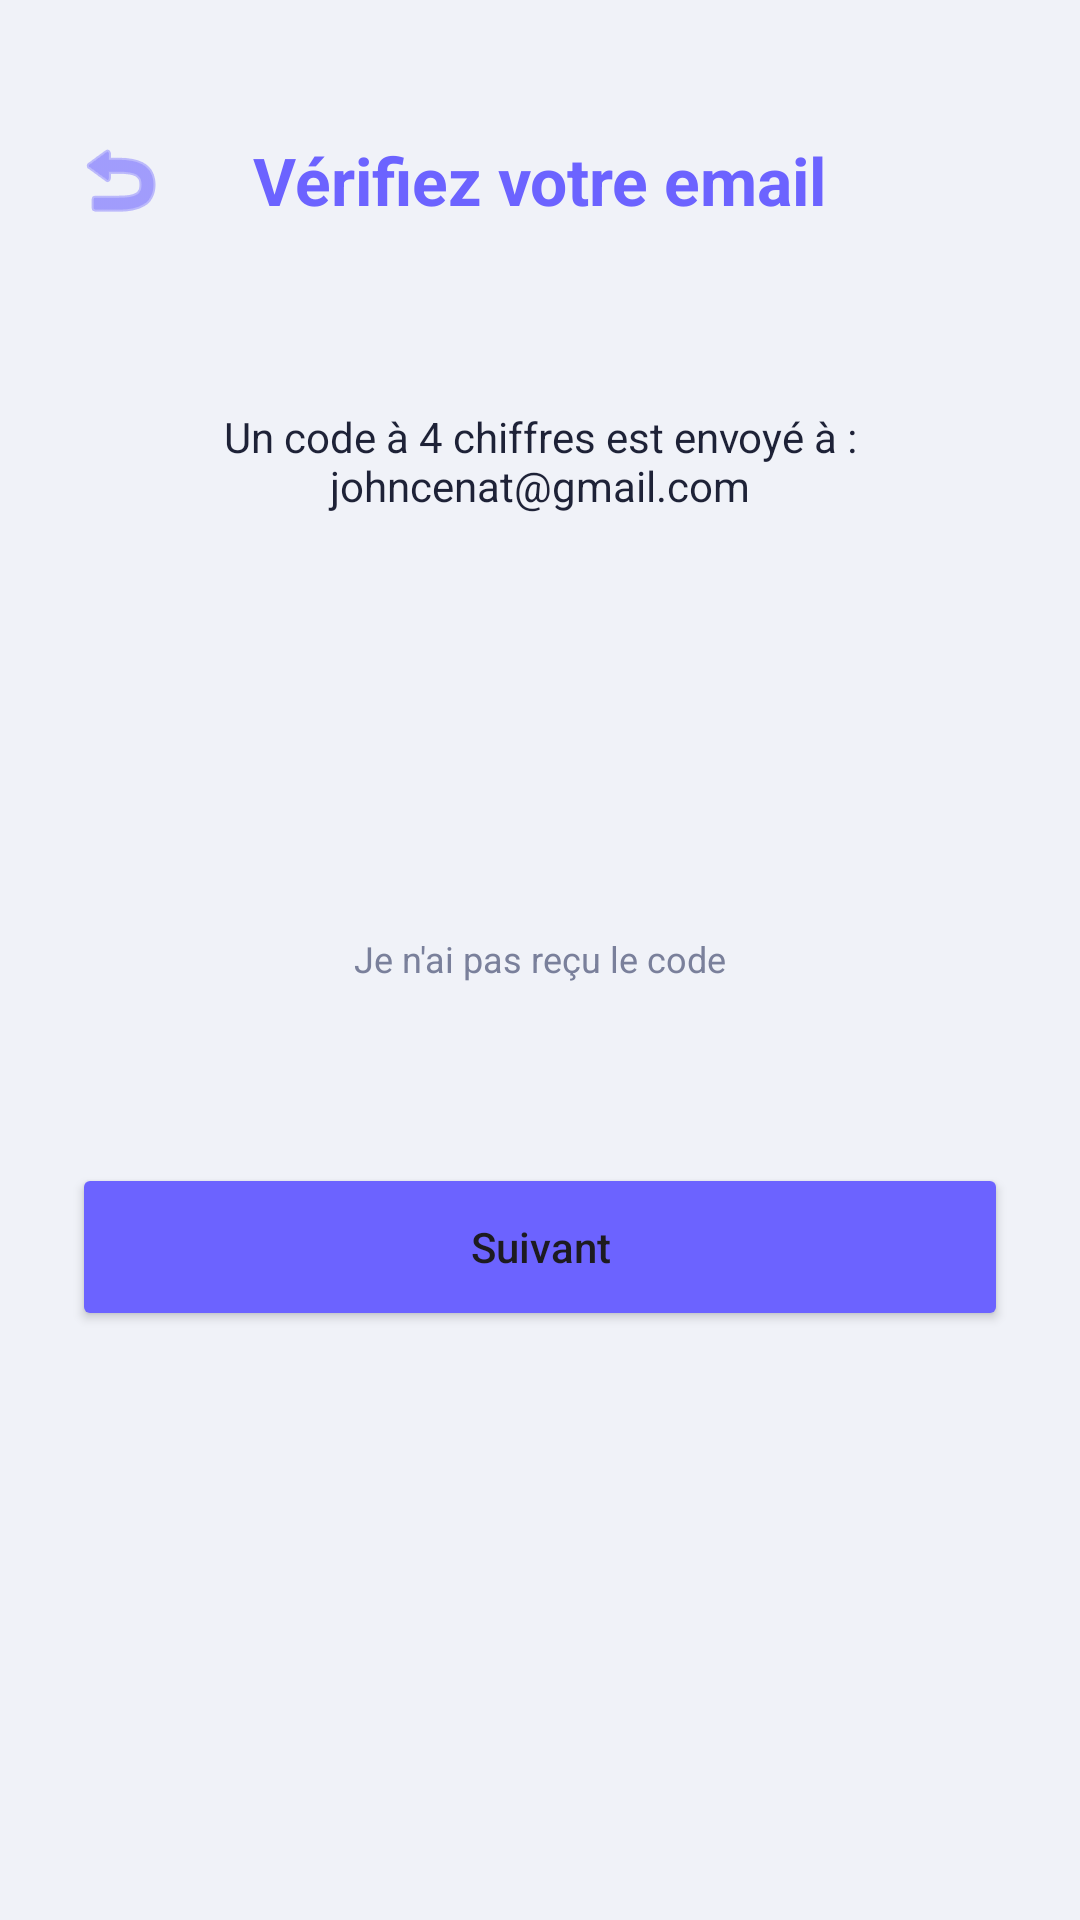

Icons on this 1080 x 1920 Android screen, each with the point to tap as (x=x, y=y):
revert: (x=121, y=181)
